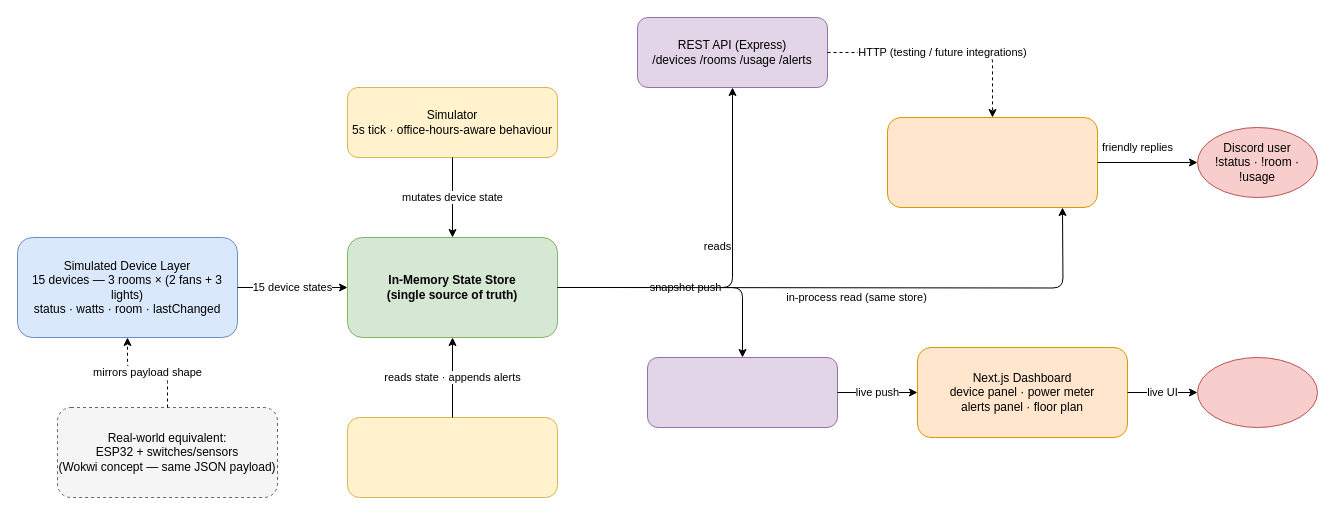
This 1335x515 diagram has some shape labels left out. The centre of each missing label's shape, as x and y in pixels:
Alert Engine after-hours rule · 2h-continuous rule 10-min cooldown: the point at 452,457
Browser user live, no refresh: the point at 1257,392
Discord Bot discord.js · Gemini 2.0 Flash template fallback (never silent): the point at 992,162
Socket.io broadcast full snapshot on every change: the point at 742,392
